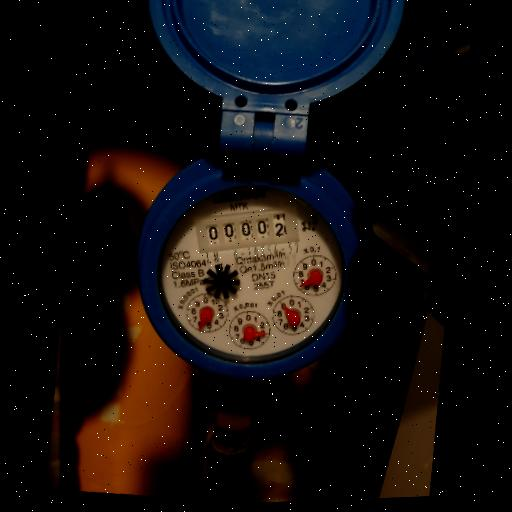0: (203, 221, 222, 247), (253, 217, 272, 240), (237, 219, 255, 242), (220, 221, 238, 243)
2: (269, 210, 291, 239)
border_water_meter_number: (190, 195, 303, 264)
